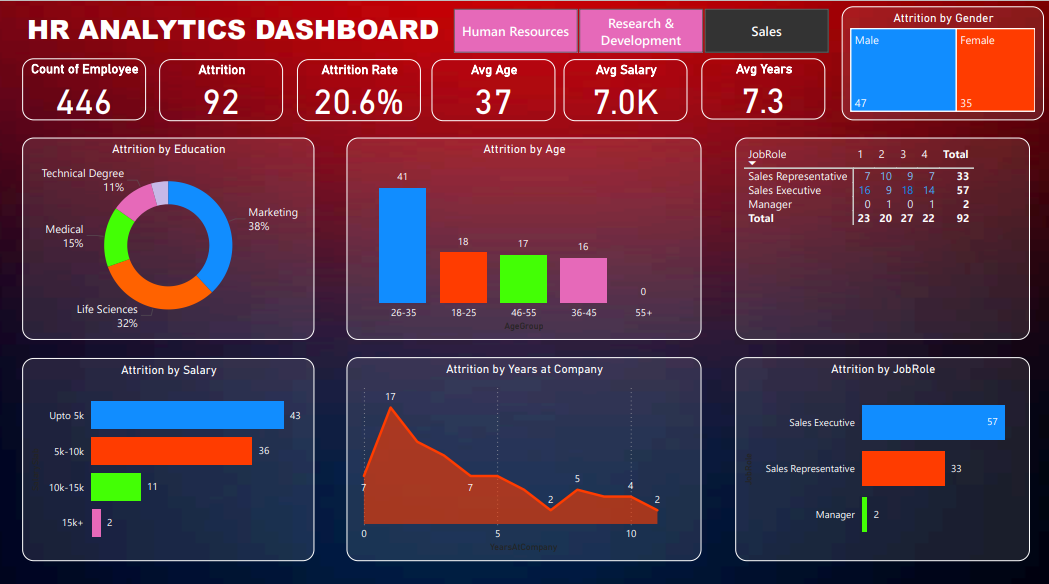

The dashboard page shown, as its layout file describes it:
{"tool":"powerbi","page":{"name":"Page 1","canvas":[1280,720],"ordinal":0},"visuals":[{"type":"card","title":"Count of Employee","fields":{"Values":["CountNonNull(HR_Analytics.EmpID)"]},"box":[32.2,76.9,150.2,75.1],"z":0},{"type":"card","title":"Avg Age","fields":{"Values":["Avg(HR_Analytics.Age)"]},"box":[528,78.5,149.8,74.2],"z":1000},{"type":"card","title":"Attrition Rate","fields":{"Values":["HR_Analytics.AttritionRate"]},"box":[365.3,78.5,149.8,74.2],"z":2000},{"type":"card","title":"Attrition","fields":{"Values":["Sum(HR_Analytics.AttritionCount)"]},"box":[198.4,78.5,149.8,74.2],"z":3000},{"type":"card","title":"Avg Salary","fields":{"Values":["Avg(HR_Analytics.MonthlyIncome)"]},"box":[687.8,78.5,149.8,74.2],"z":4000},{"type":"card","title":"Avg Years","fields":{"Values":["Avg(HR_Analytics.YearsAtCompany)"]},"box":[854.8,77.1,149.8,74.2],"z":5000},{"type":"donutChart","title":"Attrition by Education","fields":{"Category":["HR_Analytics.EducationField"],"Y":["Sum(HR_Analytics.AttritionCount)"]},"box":[32.2,173.4,354,244.9],"z":6000},{"type":"columnChart","title":"Attrition by Age","fields":{"Category":["HR_Analytics.AgeGroup"],"Y":["Sum(HR_Analytics.AttritionCount)"]},"box":[425.2,172.9,429.4,245.2],"z":7000},{"type":"pivotTable","fields":{"Rows":["HR_Analytics.JobRole"],"Columns":["HR_Analytics.JobSatisfaction"],"Values":["Sum(HR_Analytics.AttritionCount)"]},"box":[895.7,172.9,357.2,245.2],"z":8000},{"type":"barChart","title":"Attrition by Salary","fields":{"Category":["HR_Analytics.SalarySlab"],"Y":["Sum(HR_Analytics.AttritionCount)"]},"box":[32.2,439.8,354,246.7],"z":9000},{"type":"barChart","title":"Attrition by JobRole","fields":{"Y":["Sum(HR_Analytics.AttritionCount)"],"Category":["HR_Analytics.JobRole"]},"box":[895.7,439.4,357.2,246.6],"z":10000},{"type":"areaChart","title":"Attrition by Years at Company","fields":{"Category":["HR_Analytics.YearsAtCompany"],"Y":["Sum(HR_Analytics.AttritionCount)"]},"box":[425.2,439.4,429.4,246.6],"z":11000},{"type":"treemap","title":"Attrition by Gender","fields":{"Group":["HR_Analytics.Gender"],"Values":["Sum(HR_Analytics.AttritionCount)"]},"box":[1024.7,14.2,245.2,137.5],"z":12000},{"type":"slicer","fields":{"Values":["HR_Analytics.Department"]},"box":[528.7,12.8,504.6,63.8],"z":13000},{"type":"textbox","box":[32.6,12.8,544.3,58.1],"z":14000}]}

Visuals, with their boxes in screenshot pixels (x1, y1, x2, y2), scaled from the page's 1280x720 canvas onto the 1049x584 screenshot:
"Count of Employee" card: select_region(26, 62, 149, 123)
"Avg Age" card: select_region(433, 64, 555, 124)
"Attrition Rate" card: select_region(299, 64, 422, 124)
"Attrition" card: select_region(163, 64, 285, 124)
"Avg Salary" card: select_region(564, 64, 686, 124)
"Avg Years" card: select_region(701, 63, 823, 123)
"Attrition by Education" donutChart: select_region(26, 141, 317, 339)
"Attrition by Age" columnChart: select_region(348, 140, 700, 339)
pivotTable - HR_Analytics.JobRole x HR_Analytics.JobSatisfaction: select_region(734, 140, 1027, 339)
"Attrition by Salary" barChart: select_region(26, 357, 317, 557)
"Attrition by JobRole" barChart: select_region(734, 356, 1027, 556)
"Attrition by Years at Company" areaChart: select_region(348, 356, 700, 556)
"Attrition by Gender" treemap: select_region(840, 12, 1041, 123)
slicer - HR_Analytics.Department: select_region(433, 10, 847, 62)
textbox: select_region(27, 10, 473, 58)
